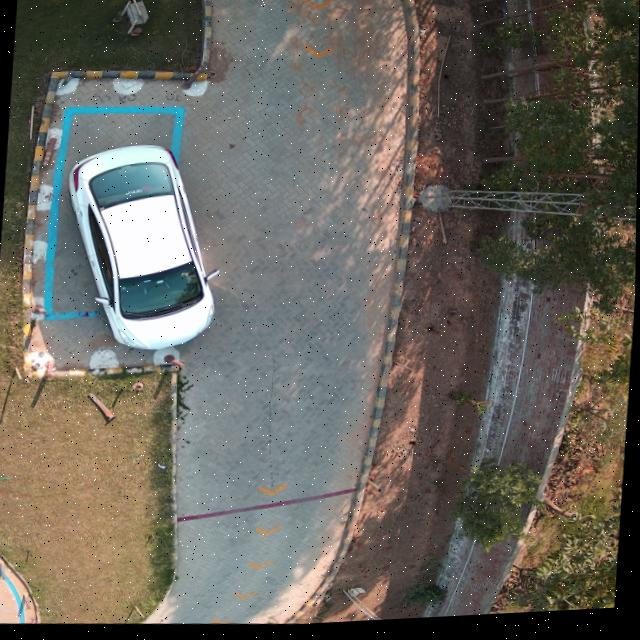car: (69, 144, 218, 351)
